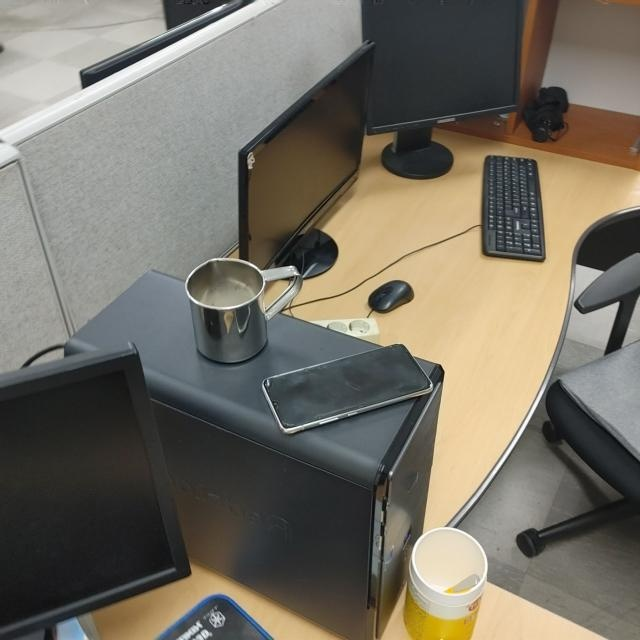cup: (187, 256, 305, 367)
phone: (260, 341, 431, 435)
